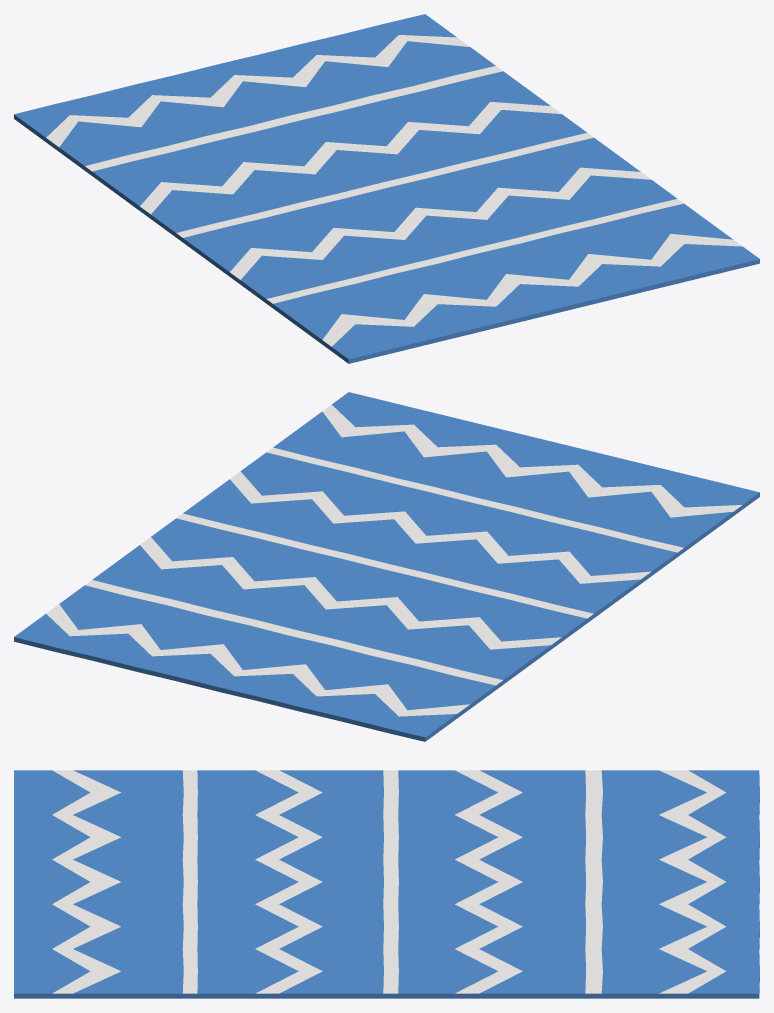
Rendered from Carpet_13.fbx.
3 renders of one model, top to bottom at view 1: azimuth 30°, elevation 25°; view 2: azimuth 150°, elevation 25°; view 3: azimuth 270°, elevation 25°, orthographic. The views are drawn at different scales.
Visible parts, largest first — view 1: Carpet_13; view 2: Carpet_13; view 3: Carpet_13.
Part boxes in pixels (x1,y1,x2,y2): Carpet_13: (14, 14, 759, 363); Carpet_13: (14, 392, 759, 741); Carpet_13: (14, 770, 759, 998).
Bounding box in the file's own units: 281 × 396 × 2.98.
